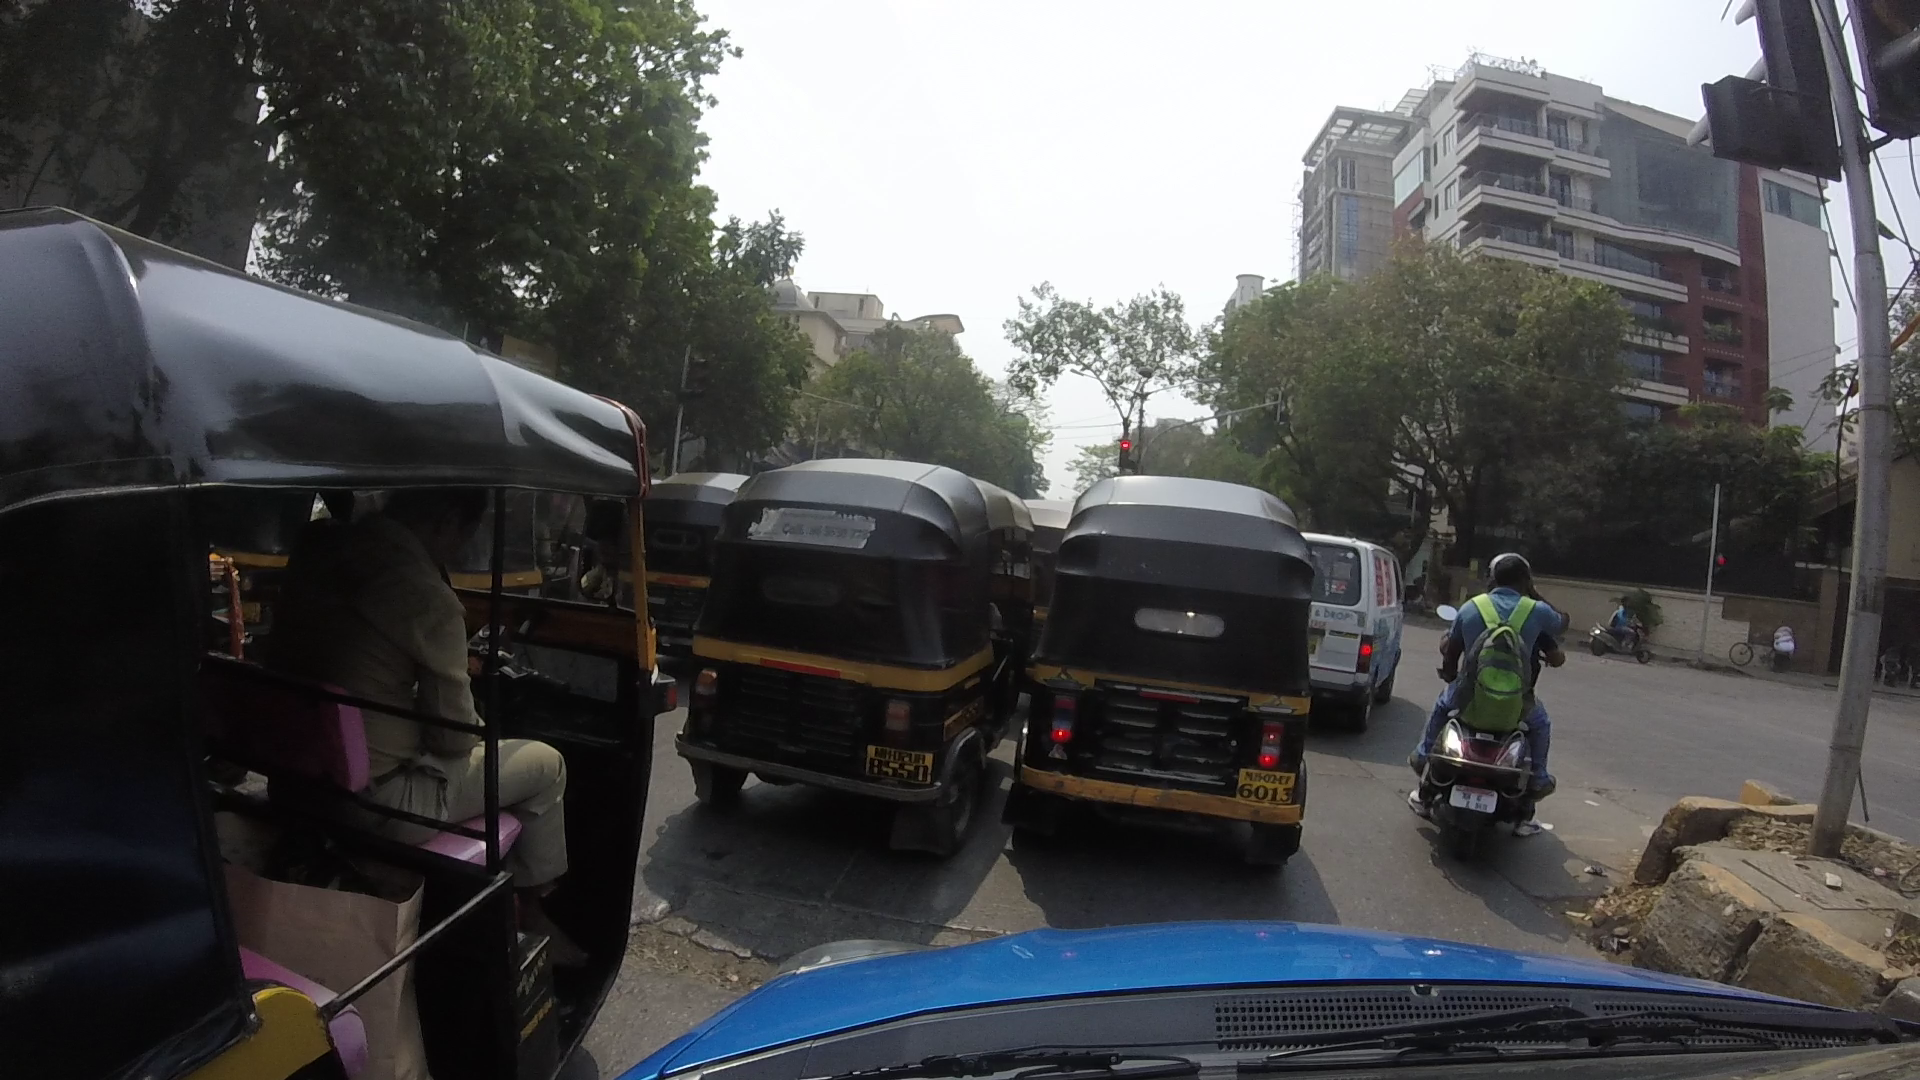bike/scooter: (1416, 551, 1555, 866)
car: (1302, 527, 1414, 698)
rickshaw: (8, 207, 644, 1080), (699, 454, 1046, 848), (1034, 462, 1311, 858), (637, 473, 756, 676)
